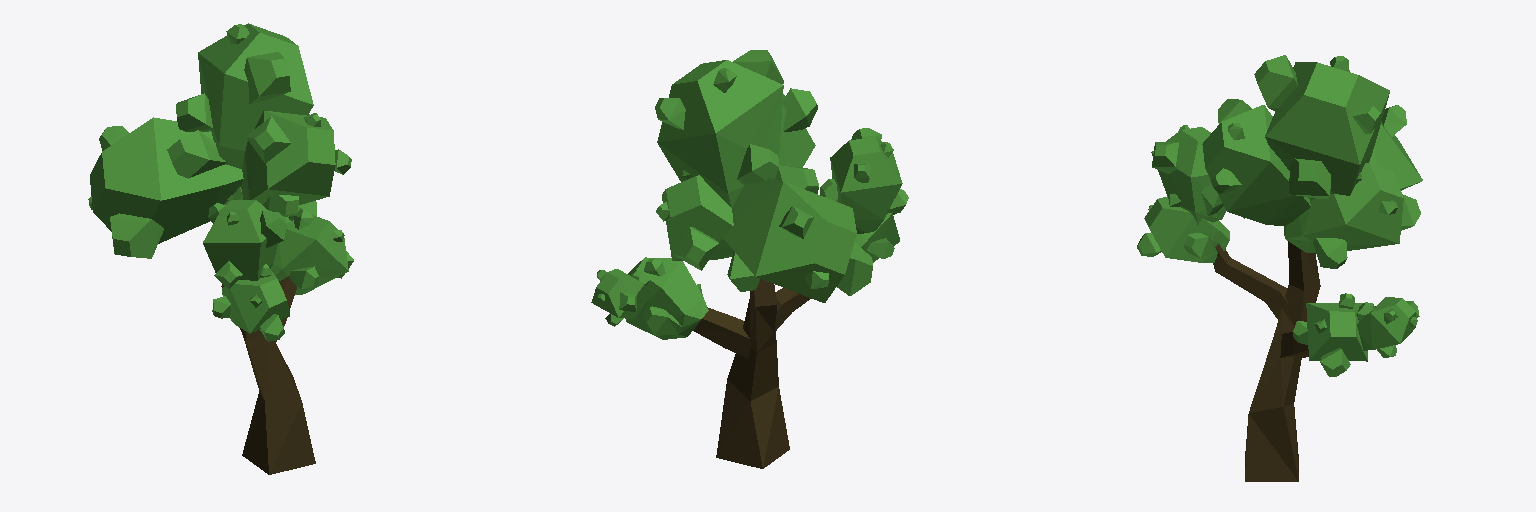
The model's file is tree1.obj.
3 views of the same model, side by side, from view 1: azimuth 30°, elevation 25°; view 2: azimuth 150°, elevation 25°; view 3: azimuth 270°, elevation 25° (orthographic).
Visible parts, largest first — view 1: crown, Tree; view 2: crown, Tree; view 3: crown, Tree.
Part boxes in pixels (x1,y1,x2,y2): crown: (88,23,353,341); Tree: (221,276,315,474); crown: (591,50,908,339); Tree: (693,279,811,468); crown: (1137,55,1422,376); Tree: (1213,241,1320,481).
Size of the model in its own units: 10.59 by 16.73 by 10.6.